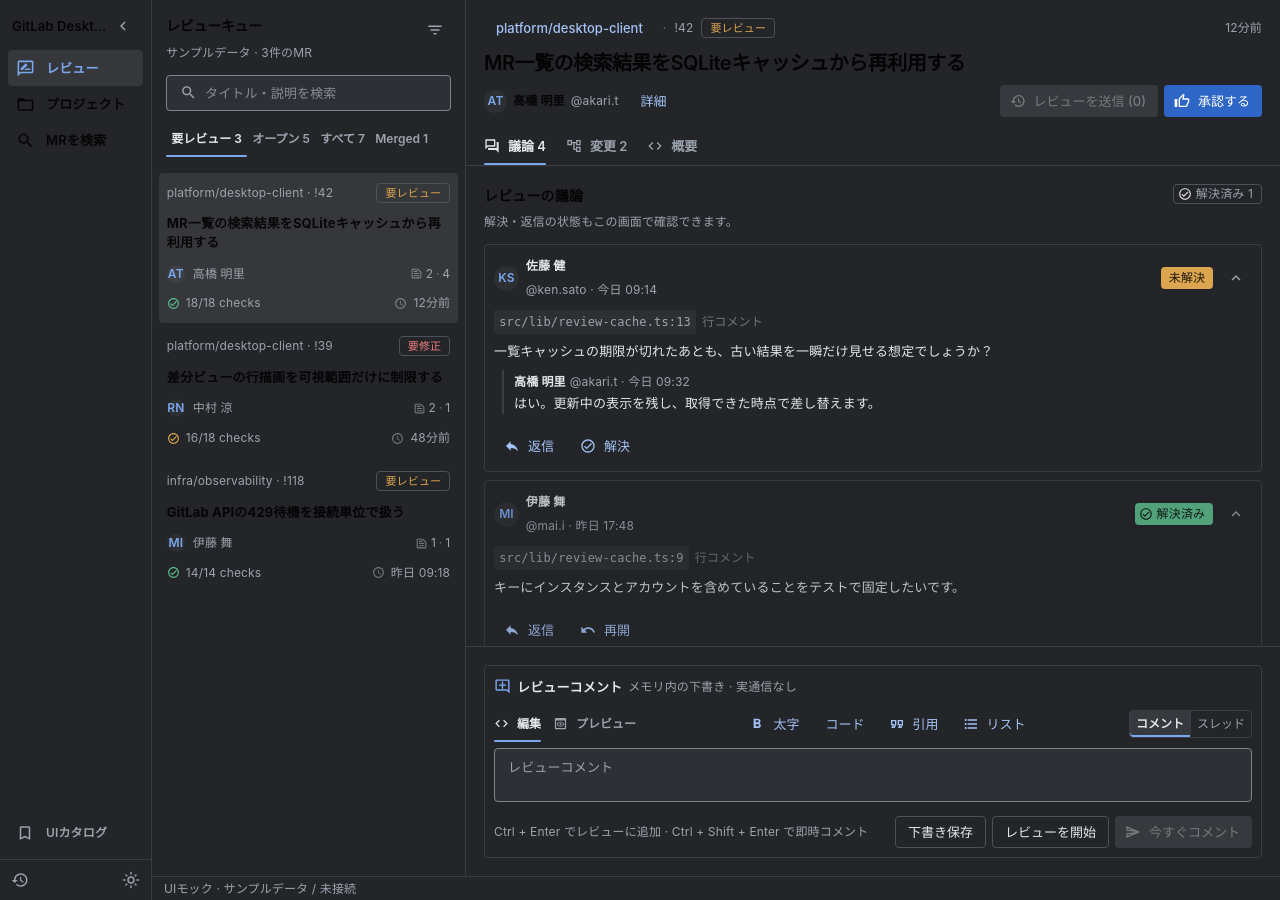
review workspace UI mock › opens a selected merge request and preserves the real fixture title
Click the button with aria-label "!39 差分ビューの行描画を可視範囲だけに制限する" at (235, 346), box [159, 326, 458, 458]
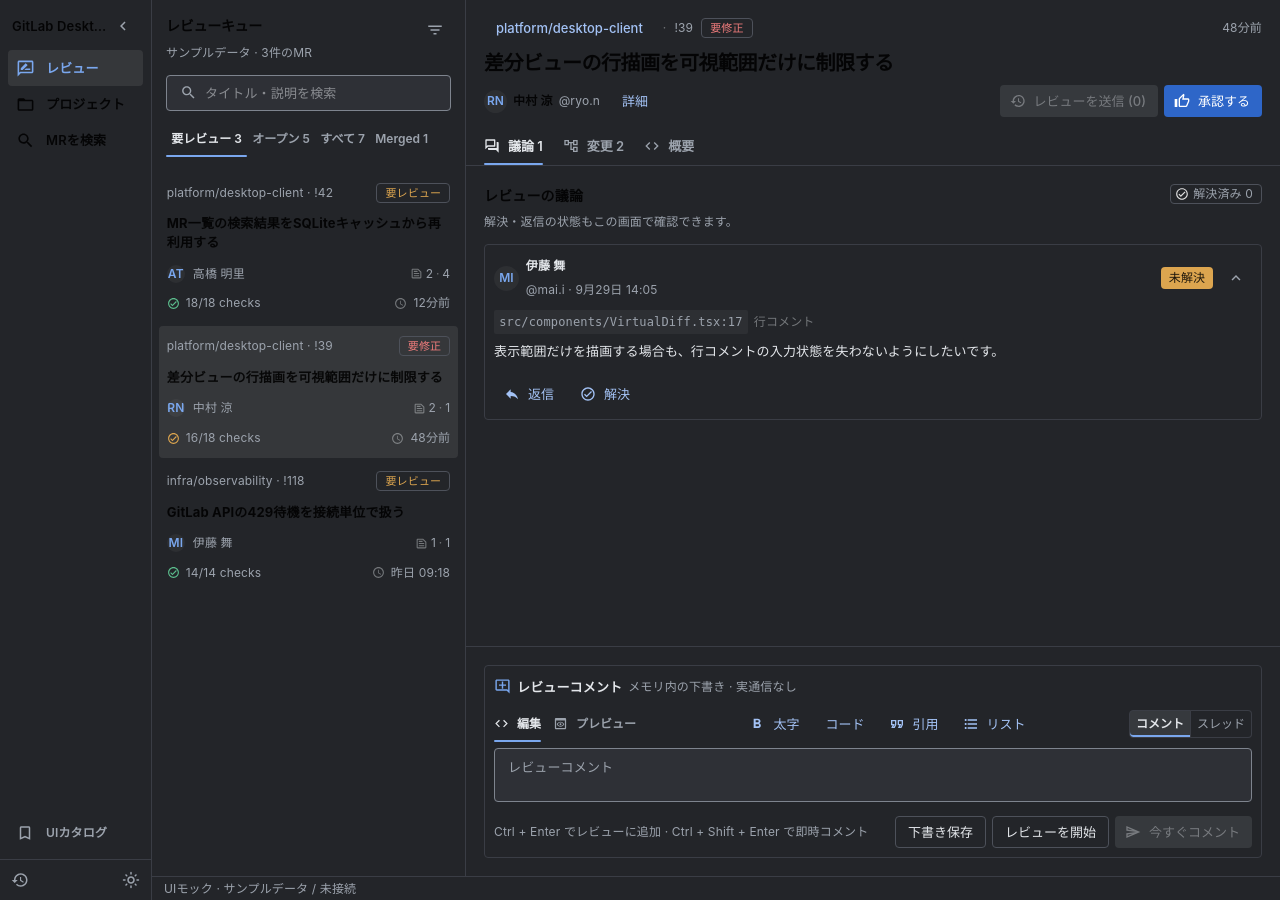
Result: the heading "差分ビューの行描画を可視範囲だけに制限する" is shown at [484, 51, 894, 75]
